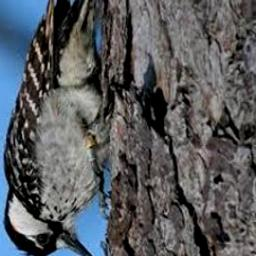Woodpecker: (2, 0, 139, 256)
